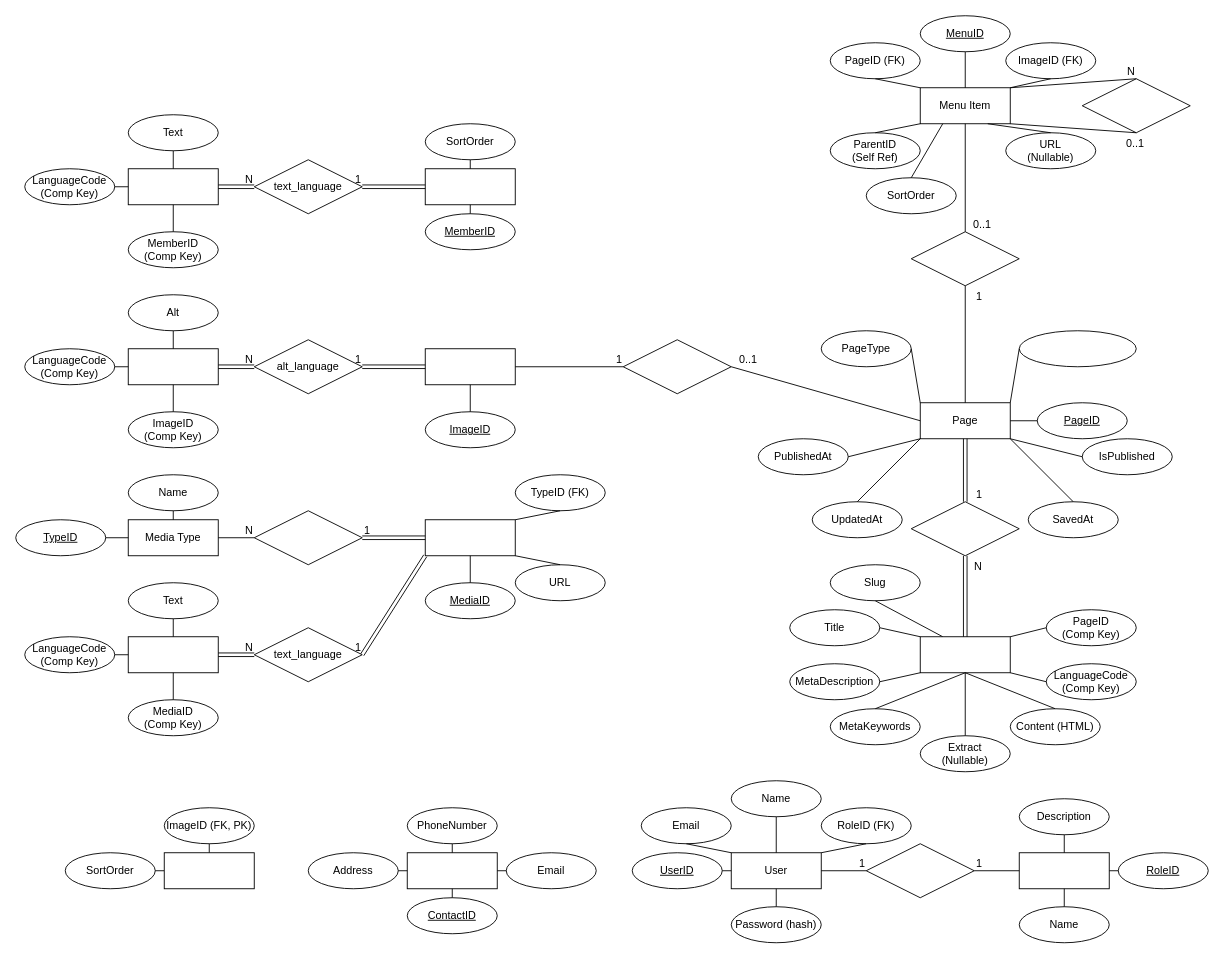
Image size: 1224x959. Some labels were removed from this diagram. The centre of each missing label's shape, as x and y in pixels:
"BoardMember" goes at pixel 469 186.
"BoardMember Text Translation" goes at pixel 172 186.
"Contact" goes at pixel 451 870.
"content_language" goes at pixel 964 528.
"External Media" goes at pixel 469 537.
"External Media Translation" goes at pixel 172 654.
"has" goes at pixel 919 870.
"has_thumbnail" goes at pixel 676 366.
"Image" goes at pixel 469 366.
"Image Alt Translation" goes at pixel 172 366.
"leads_to" goes at pixel 964 258.
"PageTranslation" goes at pixel 964 654.
"parent_of" goes at pixel 1135 105.
"Role" goes at pixel 1063 870.
"Slide" goes at pixel 208 870.
"ThumbnailImageID (FK, Nullable)" goes at pixel 1077 348.
"type_of" goes at pixel 307 537.
